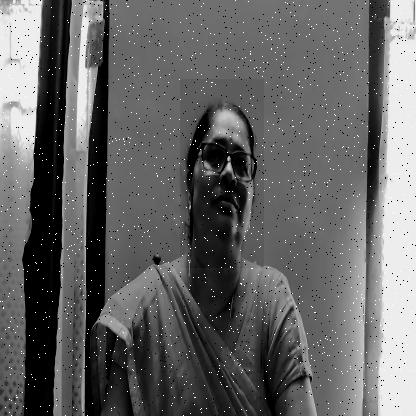Distracted: (180, 79, 264, 268)
